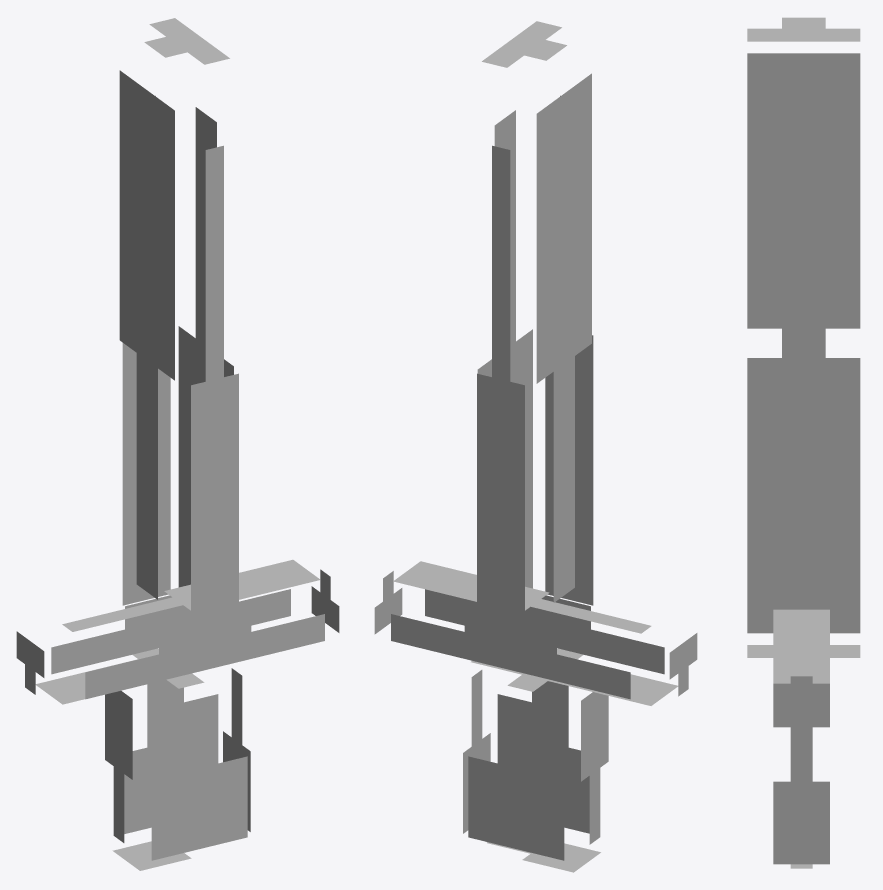
The model's file is sword.obj.
The picture shows the model from 3 angles, left to right: view 1: azimuth 30°, elevation 25°; view 2: azimuth 150°, elevation 25°; view 3: azimuth 270°, elevation 25°; orthographic projection.
Bounding box in the file's own units: 0.5 × 1.3 × 0.2.
